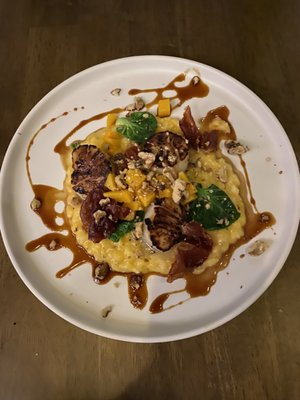curry: (186, 183, 240, 230), (115, 110, 158, 144)
